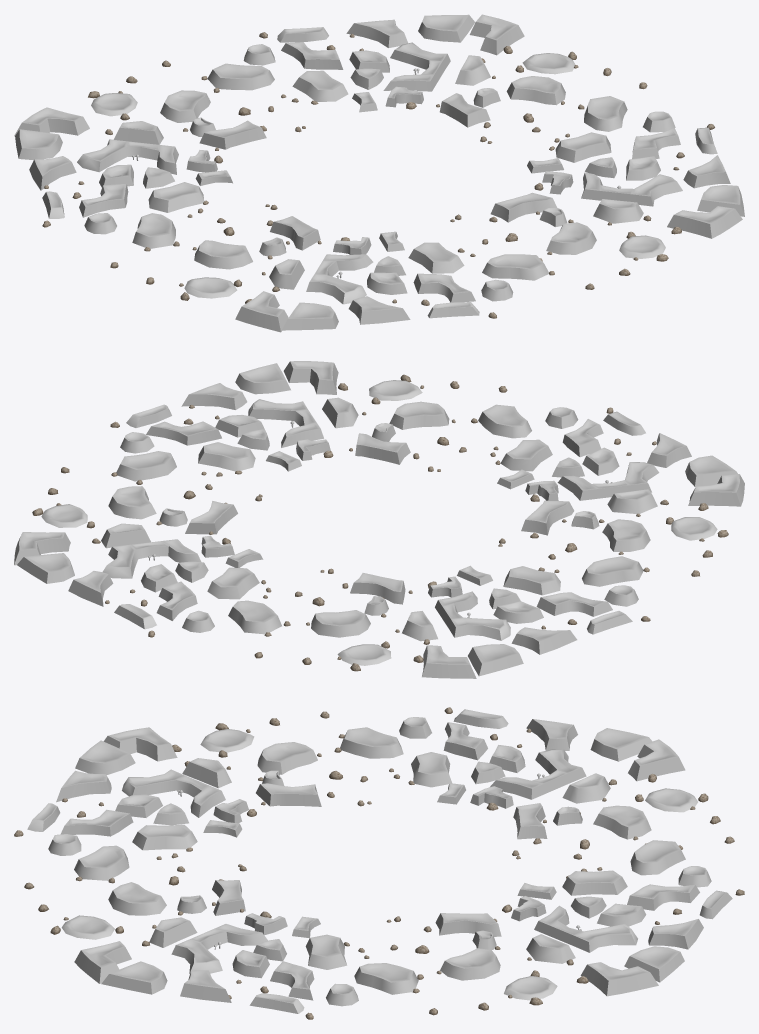
The model's file is depari.fbx.
The picture shows the model from 3 angles, top to bottom: view 1: azimuth 30°, elevation 25°; view 2: azimuth 150°, elevation 25°; view 3: azimuth 270°, elevation 25°; orthographic projection. The views are drawn at different scales.
Visible parts, largest first — view 1: depari; view 2: depari; view 3: depari.
Boxes of the visible parts, x1=… form: depari: x1=14, y1=14, x2=744, y2=332; depari: x1=14, y1=361, x2=744, y2=678; depari: x1=14, y1=707, x2=744, y2=1019.
Size of the model in its own units: 4915 by 110 by 4903.
